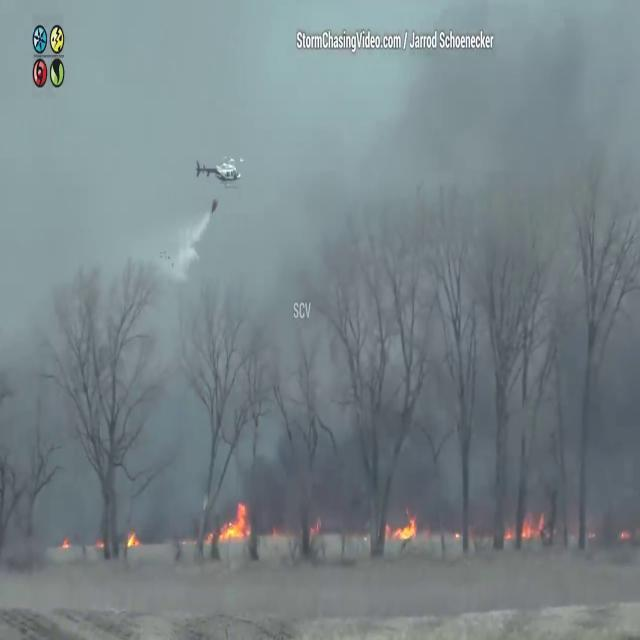Fire: (210, 492, 252, 548), (502, 501, 550, 549), (384, 505, 421, 547), (124, 522, 142, 554)
Smoke: (4, 0, 640, 532)
